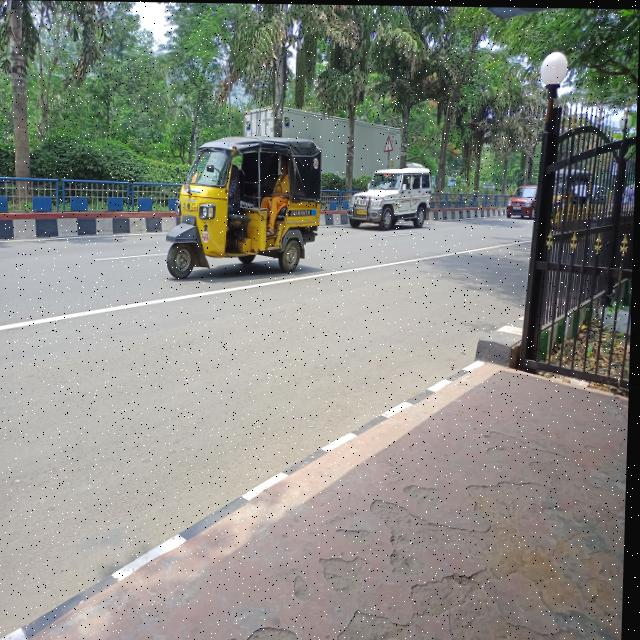car: (347, 159, 437, 241), (507, 179, 537, 222)
